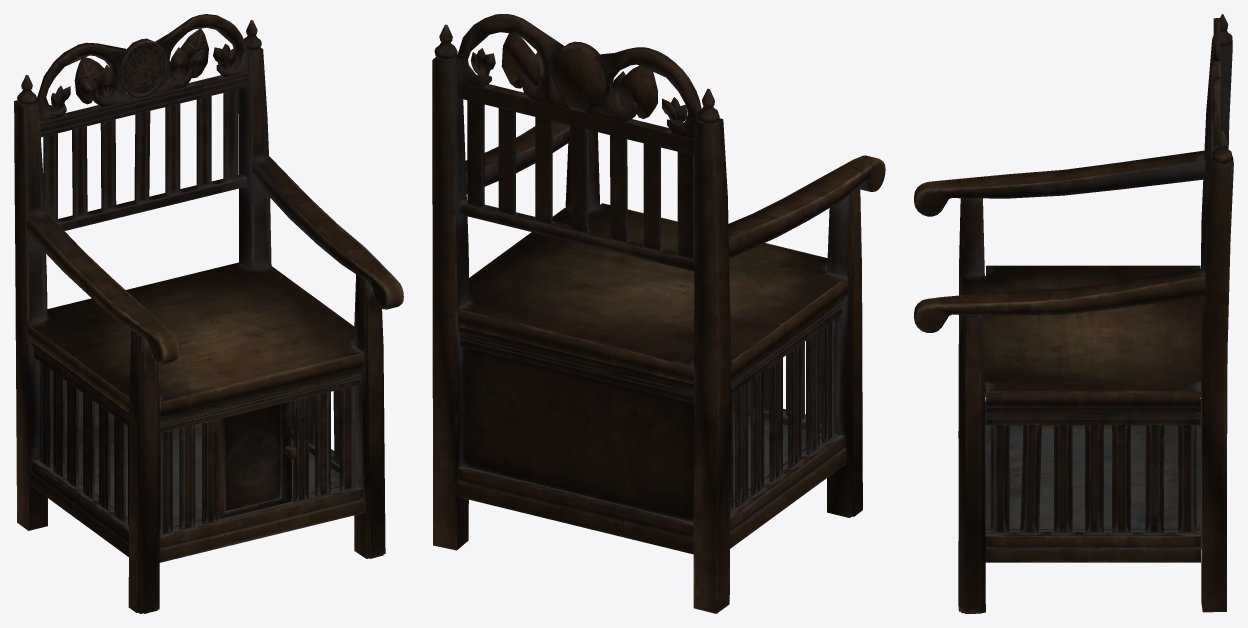
File: gallinera_chair.glb
The picture shows the model from 3 angles, left to right: view 1: azimuth 30°, elevation 25°; view 2: azimuth 150°, elevation 25°; view 3: azimuth 270°, elevation 25°; orthographic projection. The views are drawn at different scales.
Visible parts, largest first — view 1: gallinera_chair; view 2: gallinera_chair; view 3: gallinera_chair.
Part boxes in pixels (x1=…): gallinera_chair: x1=14, y1=14, x2=403, y2=613; gallinera_chair: x1=432, y1=14, x2=885, y2=613; gallinera_chair: x1=914, y1=14, x2=1233, y2=613.
Size of the model in its own units: 0.58 by 1.03 by 0.6034.
Materials: 1 (1 with a texture image).
